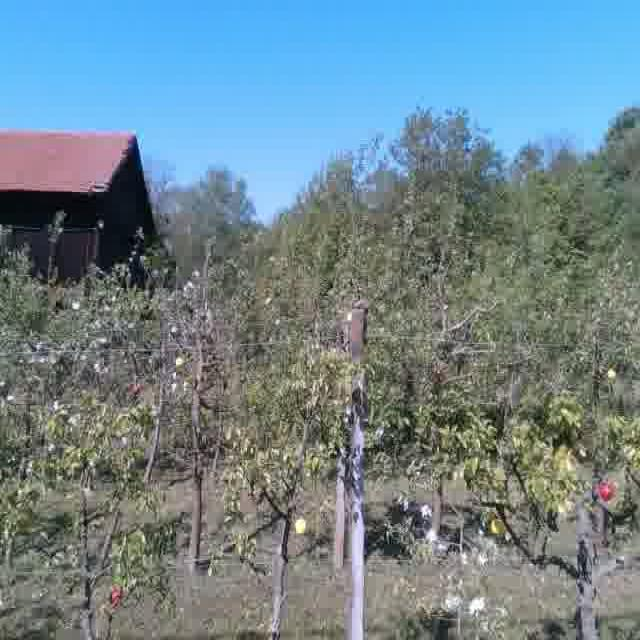red: (106, 583, 125, 611), (592, 478, 612, 504)
yellow: (487, 516, 508, 536), (293, 516, 309, 536), (174, 354, 186, 370), (606, 367, 618, 380)
